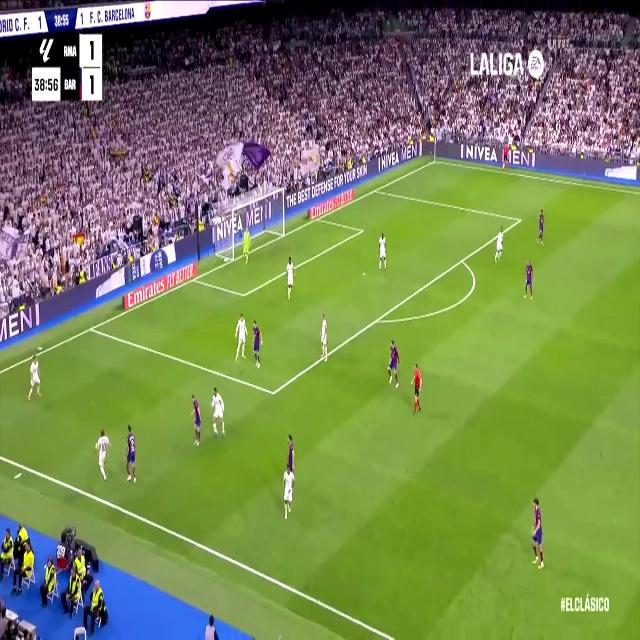bigarea_bottom_inner: (269, 381, 278, 404)
bigarea_bottom_outter: (86, 319, 96, 337)
bigarea_top_inner: (516, 212, 522, 226)
bottom_arc_area_intersection: (372, 310, 382, 328)
corner: (432, 156, 438, 164)
smallarea_bottom_inner: (240, 286, 248, 302)
smallarea_bottom_outter: (190, 272, 198, 286)
smallarea_top_inner: (359, 225, 363, 235)
top_arc_area_intersection: (458, 252, 466, 268)
